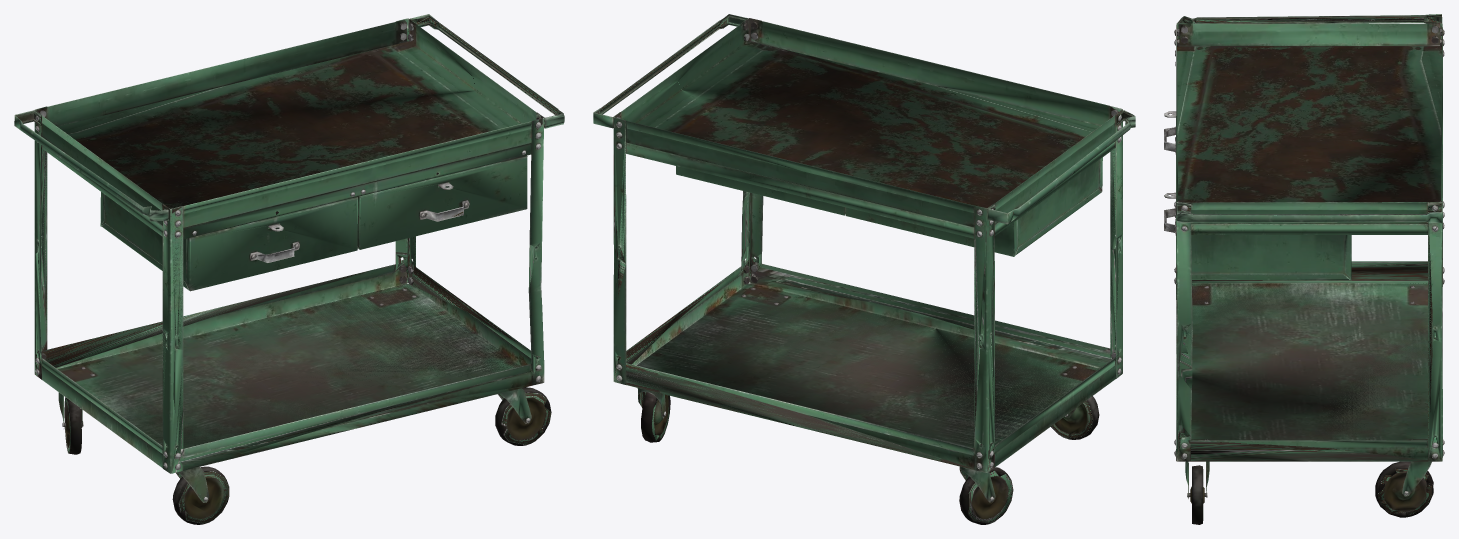
File: tool_cart.glb
3 views of the same model, side by side, from view 1: azimuth 30°, elevation 25°; view 2: azimuth 150°, elevation 25°; view 3: azimuth 270°, elevation 25° (orthographic). The views are drawn at different scales.
Visible parts, largest first — view 1: tool_cart; view 2: tool_cart; view 3: tool_cart.
Boxes of the visible parts, x1,y1,x2,y2 form: tool_cart: (14, 14, 564, 524); tool_cart: (593, 14, 1135, 524); tool_cart: (1164, 14, 1444, 524).
Bounding box in the file's own units: 1.27 × 0.9647 × 0.7522.
Materials: 1 (1 with a texture image).
